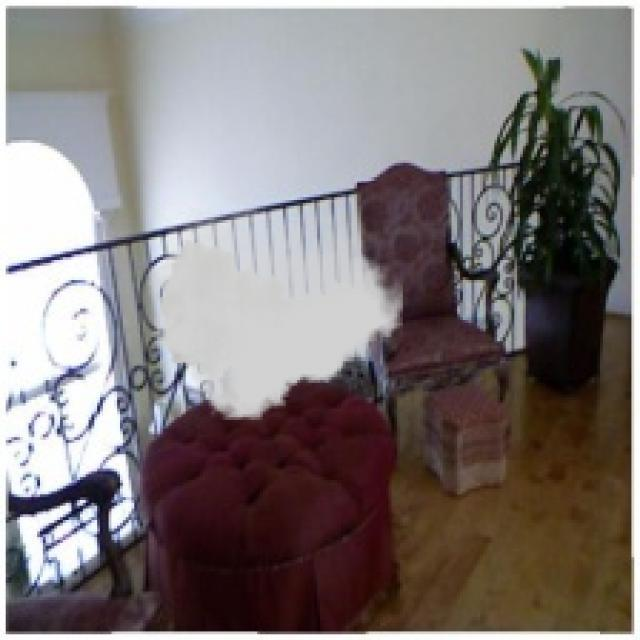Smoke: (148, 208, 403, 420)
